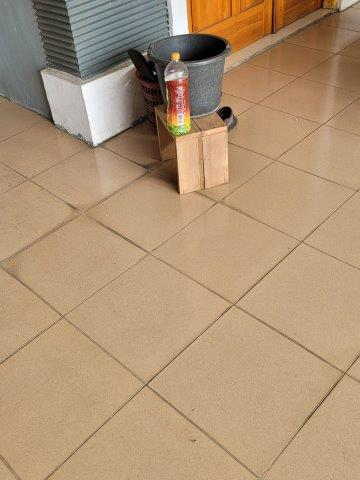botolplastik: (162, 51, 193, 137)
